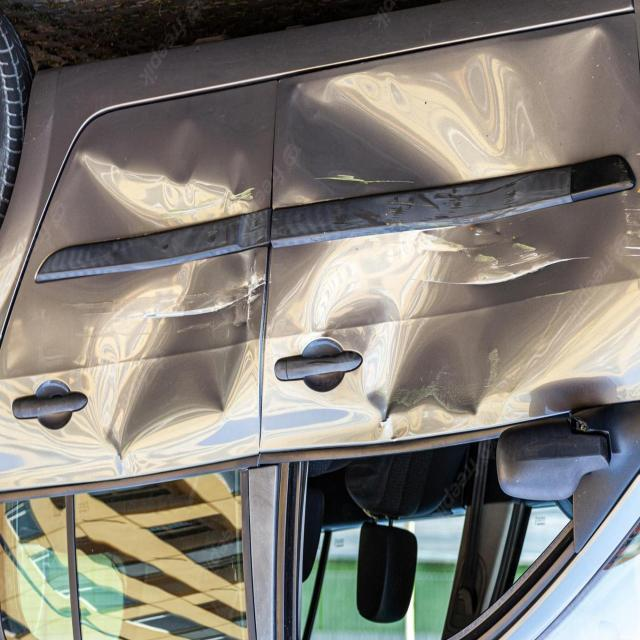dent: (15, 24, 630, 493)
